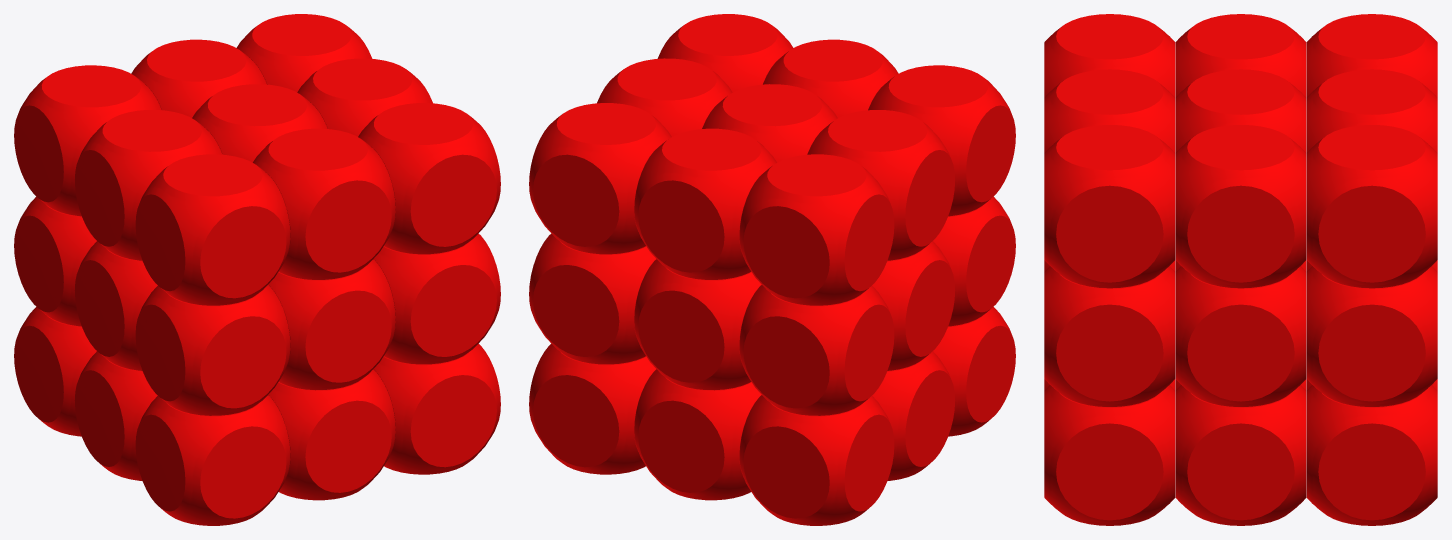
File: RubiksCube02.fbx
3 renders of one model, left to right at view 1: azimuth 30°, elevation 25°; view 2: azimuth 150°, elevation 25°; view 3: azimuth 270°, elevation 25°, orthographic. The views are drawn at different scales.
Parts seen in each view (by area): view 1: RubiksCube02Shape25, RubiksCube02Shape07, RubiksCube02Shape16, RubiksCube02Shape27, RubiksCube02Shape26, RubiksCube02Shape18, RubiksCube02Shape08, RubiksCube02Shape09, RubiksCube02Shape17, RubiksCube02Shape19, RubiksCube02Shape22, RubiksCube02Shape04 (+7 smaller); view 2: RubiksCube02Shape19, RubiksCube02Shape01, RubiksCube02Shape10, RubiksCube02Shape21, RubiksCube02Shape20, RubiksCube02Shape12, RubiksCube02Shape02, RubiksCube02Shape03, RubiksCube02Shape11, RubiksCube02Shape25, RubiksCube02Shape22, RubiksCube02Shape04 (+7 smaller); view 3: RubiksCube02Shape21, RubiksCube02Shape27, RubiksCube02Shape24, RubiksCube02Shape06, RubiksCube02Shape03, RubiksCube02Shape09, RubiksCube02Shape12, RubiksCube02Shape18, RubiksCube02Shape15, RubiksCube02Shape20, RubiksCube02Shape26, RubiksCube02Shape23 (+3 smaller).
Part boxes in pixels (x1,y1,x2,y2): RubiksCube02Shape25: (135,154,290,305); RubiksCube02Shape07: (135,395,290,525); RubiksCube02Shape16: (135,285,290,415); RubiksCube02Shape27: (358,103,500,254); RubiksCube02Shape26: (253,128,395,279); RubiksCube02Shape18: (373,233,500,364); RubiksCube02Shape08: (268,369,395,500); RubiksCube02Shape09: (373,343,500,474); RubiksCube02Shape17: (268,259,395,390); RubiksCube02Shape19: (14,65,161,216); RubiksCube02Shape22: (75,110,222,260); RubiksCube02Shape04: (74,351,157,480); RubiksCube02Shape19: (739,154,894,305); RubiksCube02Shape01: (739,395,894,525); RubiksCube02Shape10: (739,285,894,415); RubiksCube02Shape21: (529,103,671,254); RubiksCube02Shape20: (634,128,776,279); RubiksCube02Shape12: (529,233,656,364); RubiksCube02Shape02: (634,369,761,500); RubiksCube02Shape03: (529,343,656,474); RubiksCube02Shape11: (634,259,761,390); RubiksCube02Shape25: (868,65,1015,216); RubiksCube02Shape22: (807,110,954,260); RubiksCube02Shape04: (872,351,955,480); RubiksCube02Shape21: (1306,125,1437,288); RubiksCube02Shape27: (1044,125,1175,288); RubiksCube02Shape24: (1175,125,1306,288); RubiksCube02Shape06: (1175,385,1306,525); RubiksCube02Shape03: (1306,385,1437,525); RubiksCube02Shape09: (1044,385,1175,525); RubiksCube02Shape12: (1306,266,1437,406); RubiksCube02Shape18: (1044,266,1175,406); RubiksCube02Shape15: (1175,266,1306,406); RubiksCube02Shape20: (1306,69,1437,152); RubiksCube02Shape26: (1044,69,1175,152); RubiksCube02Shape23: (1175,69,1306,152).
Bounding box in the file's own units: 300 × 300 × 299.
